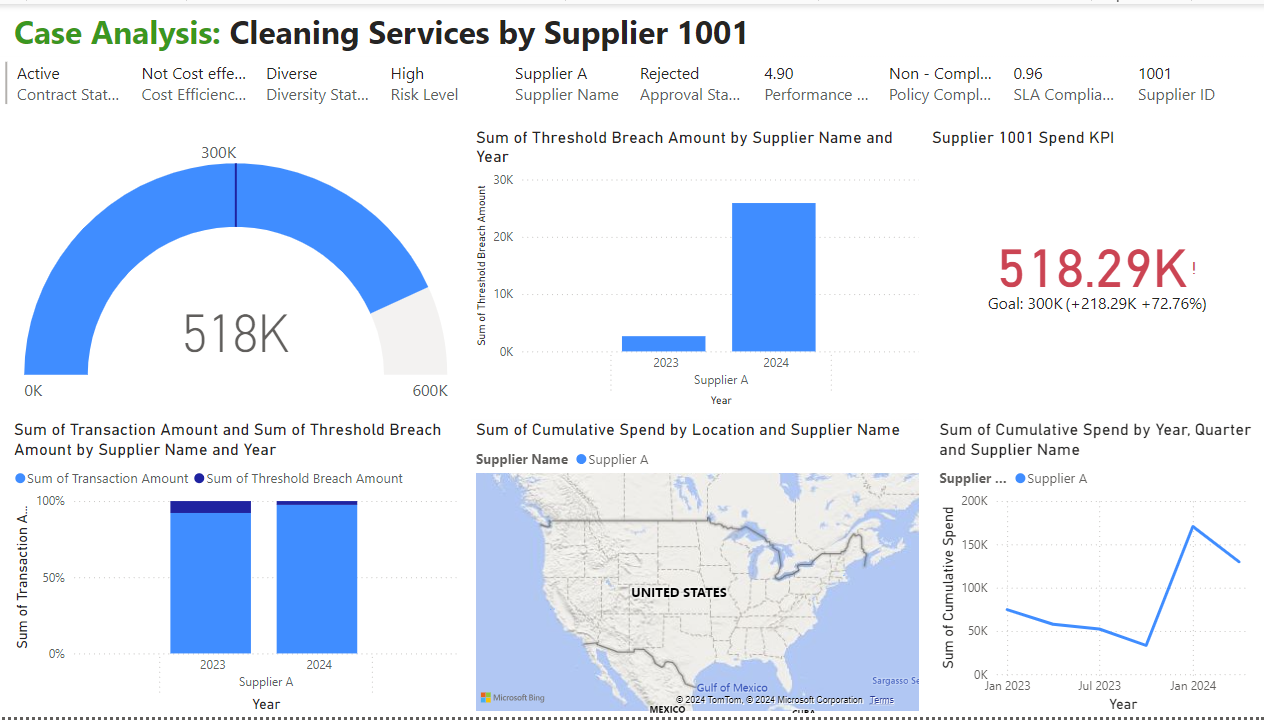

The dashboard page shown, as its layout file describes it:
{"tool":"powerbi","page":{"name":"Page 1","canvas":[1280,720],"ordinal":0},"visuals":[{"type":"hundredPercentStackedColumnChart","fields":{"Category":["Supplier Table.Supplier Name","Transaction Table.Transaction Date.Variation.Date Hierarchy.Year"],"Y":["Sum(Transaction Table.Transaction Amount)","Sum(Transaction Table.Threshold Breach Amount)"]},"box":[9.1,419.4,457.3,299.8],"z":1000},{"type":"clusteredColumnChart","fields":{"Category":["Supplier Table.Supplier Name","Transaction Table.Transaction Date.Variation.Date Hierarchy.Year"],"Y":["Sum(Transaction Table.Threshold Breach Amount)"]},"box":[475.5,124.2,457.3,286.2],"z":2000},{"type":"filledMap","fields":{"Series":["Supplier Table.Supplier Name"],"Category":["Transaction Table.Location"]},"box":[476,420,457,300],"z":3000},{"type":"lineChart","fields":{"Series":["Supplier Table.Supplier Name"],"Category":["Transaction Table.Transaction Date.Variation.Date Hierarchy.Year","Transaction Table.Transaction Date.Variation.Date Hierarchy.Quarter"],"Y":["Sum(Transaction Table.Cumulative Spend)"]},"box":[943.3,419.4,336.2,299.8],"z":5000},{"type":"multiRowCard","fields":{"Values":["Supplier Table.Contract Status","Supplier Table.Cost Efficiency Notes","Supplier Table.Diversity Status","Supplier Table.Risk Level","Supplier Table.Supplier Name","Performance Table.Approval Status","Performance Table.Performance Rating","Performance Table.Policy Compliance","Performance Table.SLA Compliance (%)","Performance Table.Supplier ID"]},"box":[0,53,1279.5,71.2],"z":5001},{"type":"kpi","title":"Supplier 1001 Spend KPI","fields":{"TrendLine":["Supplier Table.Supplier Name"],"Indicator":["Sum(Transaction Table.Cumulative Spend)"],"Goal":["Transaction Table.Measure"]},"box":[935.8,124.2,343.7,286.2],"z":5002},{"type":"gauge","fields":{"Y":["Sum(Transaction Table.Cumulative Spend)"],"TargetValue":["Transaction Table.Measure"]},"box":[9.1,124.2,457.3,286.2],"z":5003},{"type":"textbox","box":[9.1,0,851,53],"z":5004}]}

Visuals, with their boxes in screenshot pixels (x1, y1, x2, y2), scaled from the page's 1280x720 canvas onto the 1264x724 screenshot:
hundredPercentStackedColumnChart - Supplier Table.Supplier Name x Transaction Table.Transaction Date.Variation.Date Hierarchy.Year: 9 422 461 723
clusteredColumnChart - Supplier Table.Supplier Name x Transaction Table.Transaction Date.Variation.Date Hierarchy.Year: 470 125 921 413
filledMap - Supplier Table.Supplier Name x Transaction Table.Location: 470 422 921 723
lineChart - Supplier Table.Supplier Name x Transaction Table.Transaction Date.Variation.Date Hierarchy.Year: 932 422 1263 723
multiRowCard - Supplier Table.Contract Status x Supplier Table.Cost Efficiency Notes: 0 53 1263 125
"Supplier 1001 Spend KPI" kpi: 924 125 1263 413
gauge - Sum(Transaction Table.Cumulative Spend) x Transaction Table.Measure: 9 125 461 413
textbox: 9 0 849 53
